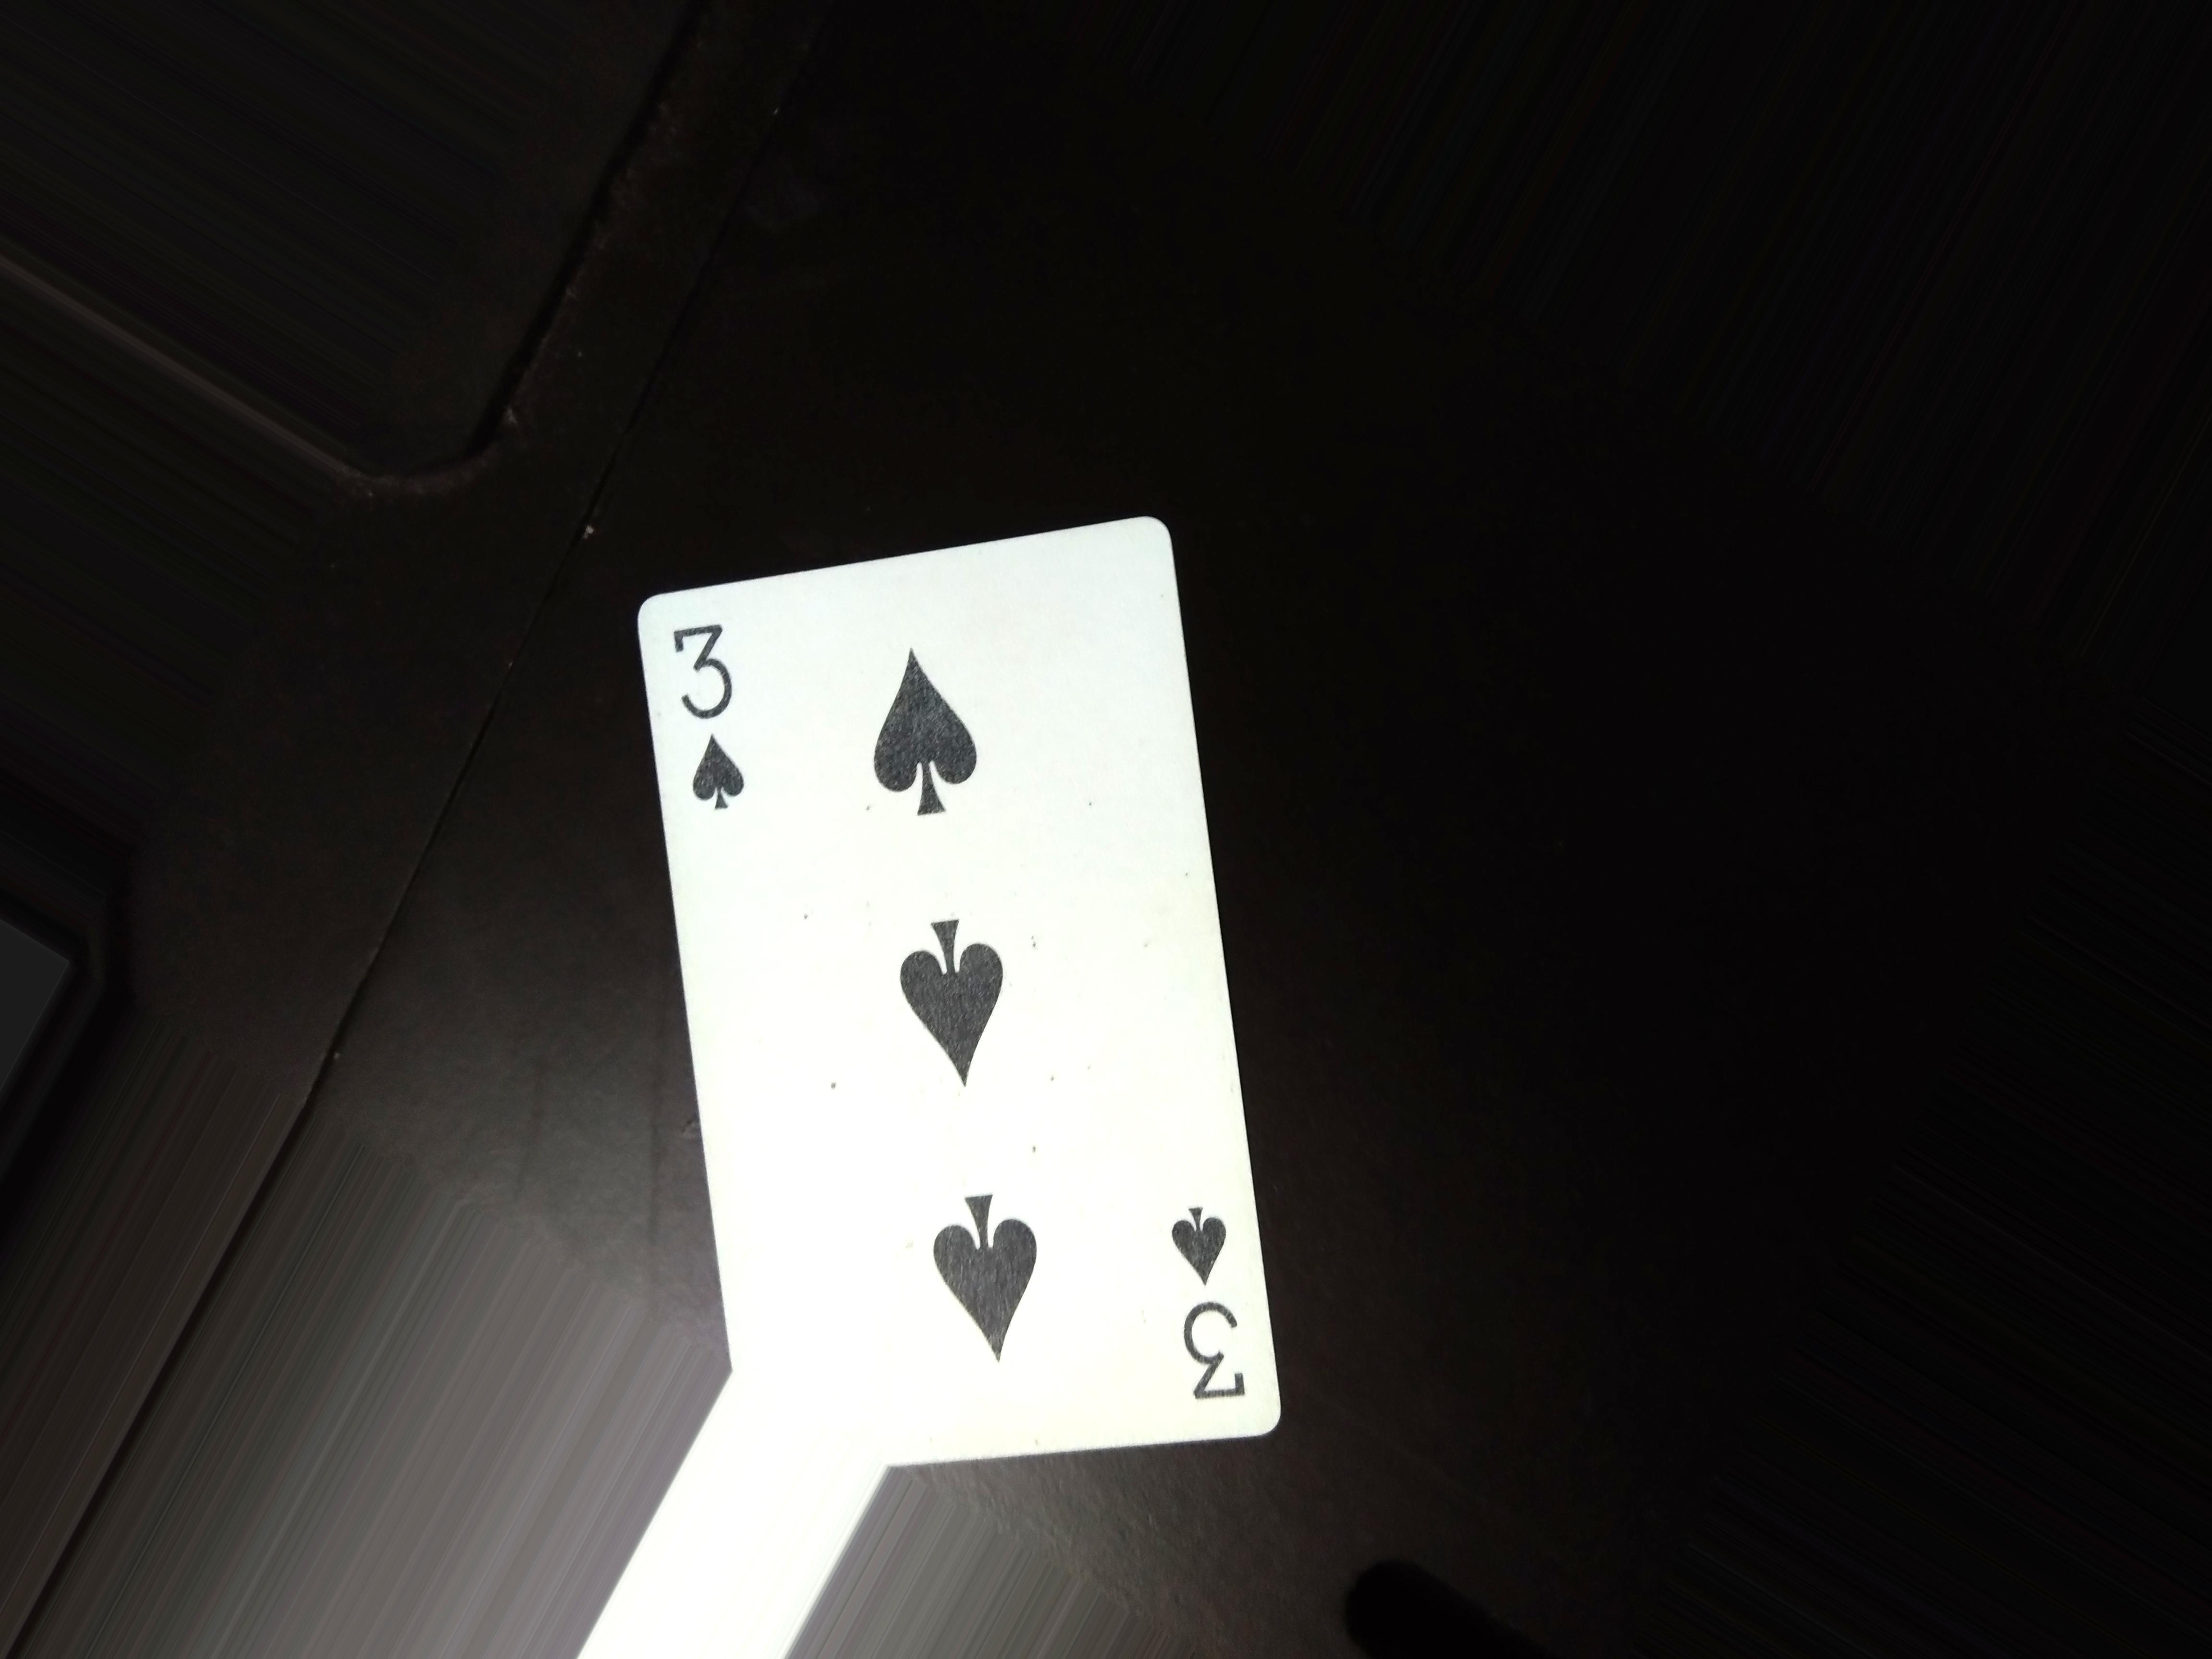3S: (1167, 1195, 1259, 1415)
